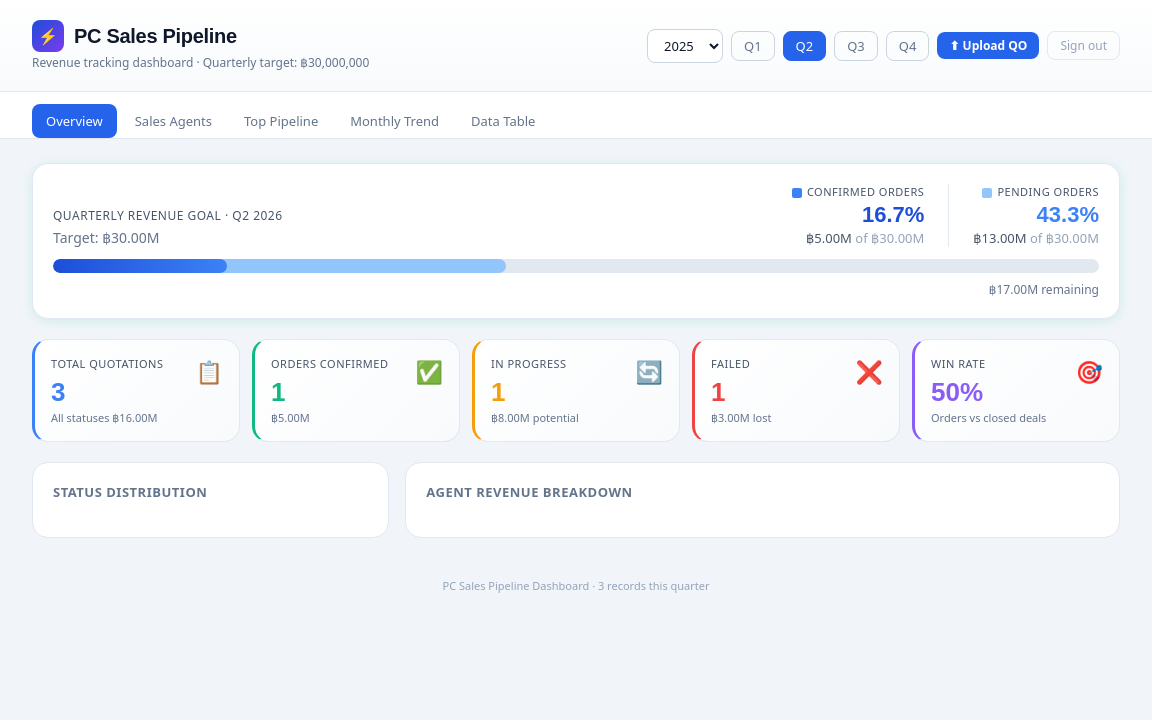
it: Dashboard › Data Table Tab › shows search input
Expected: the heading "PC Sales Pipeline" is shown, x1=74 y1=24 x2=237 y2=48
Click the button "Data Table" at coordinates (503, 121), box x1=457 y1=104 x2=549 y2=138
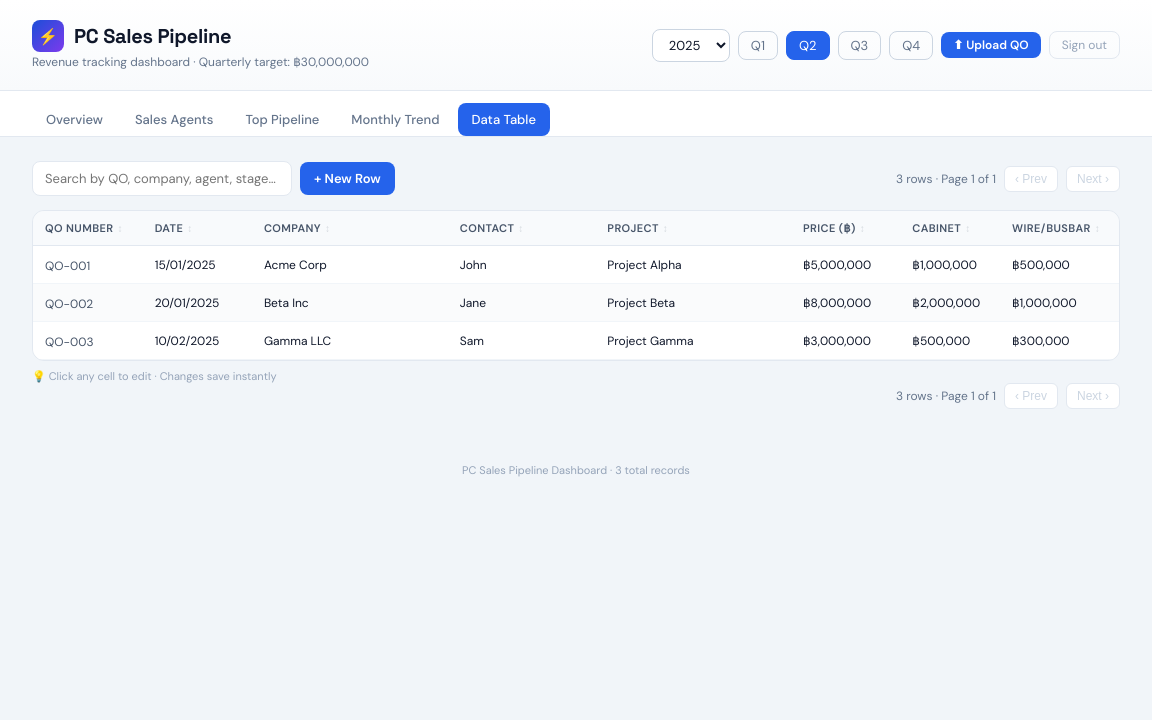
Now the field with placeholder "Search by QO, company, agent, stage…" is shown, box x1=32 y1=161 x2=292 y2=196
